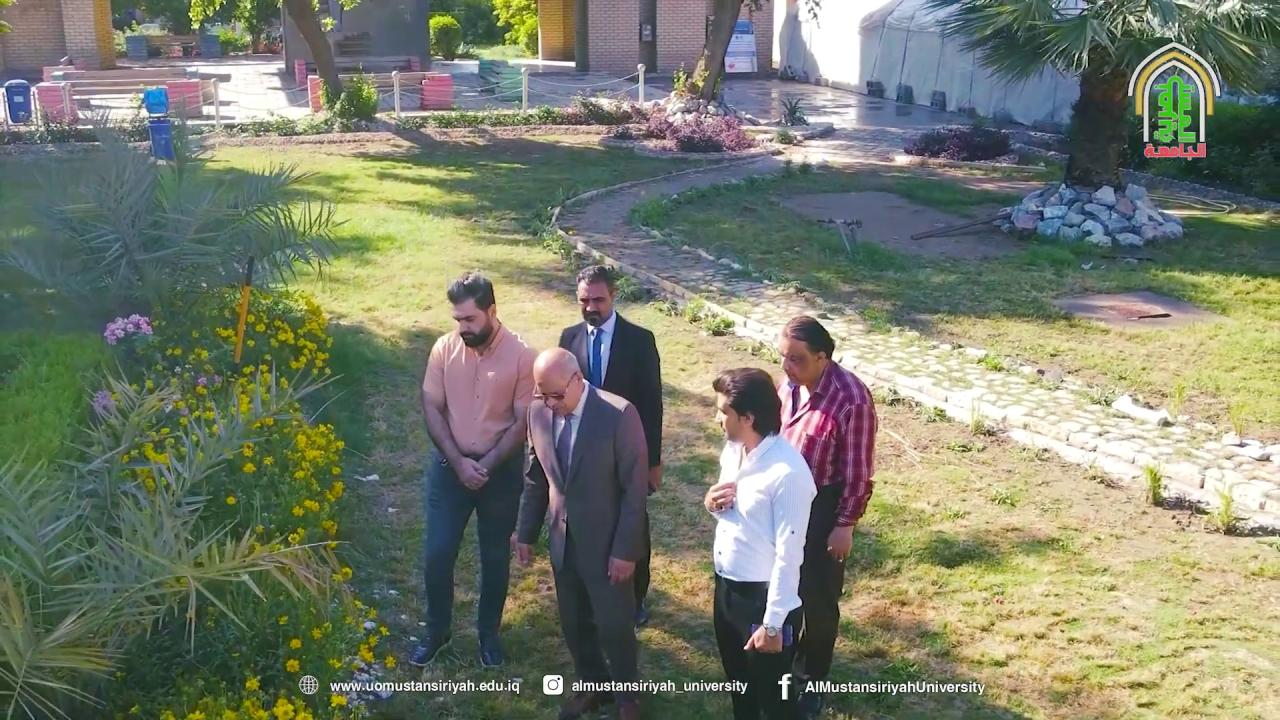person: (408, 271, 539, 668), (513, 346, 650, 719), (774, 314, 878, 718), (702, 367, 818, 719), (556, 264, 662, 627)
tree: (1, 348, 356, 718), (5, 107, 351, 356), (918, 0, 1280, 188), (173, 0, 348, 110), (687, 0, 822, 105), (278, 0, 360, 107), (488, 0, 539, 59), (427, 12, 462, 61)
